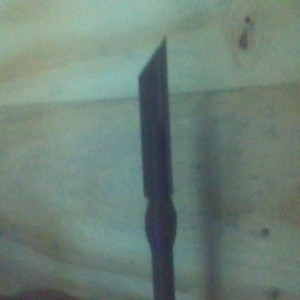cutter: (137, 35, 177, 300)
